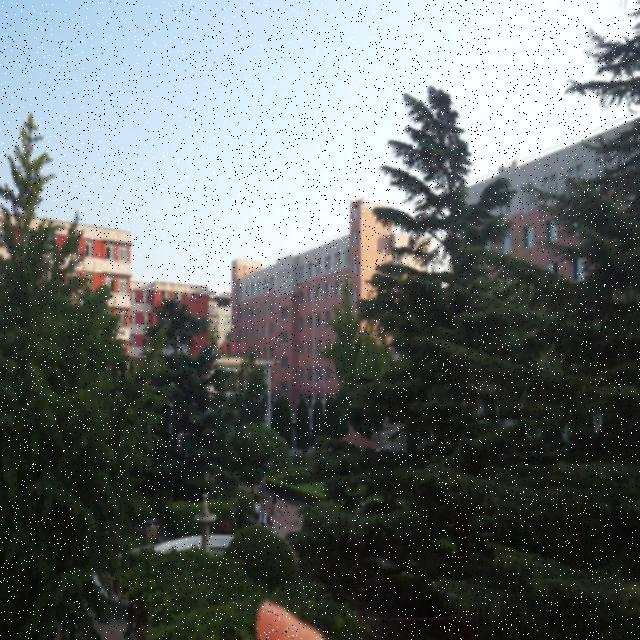UAV: (347, 196, 369, 212)
